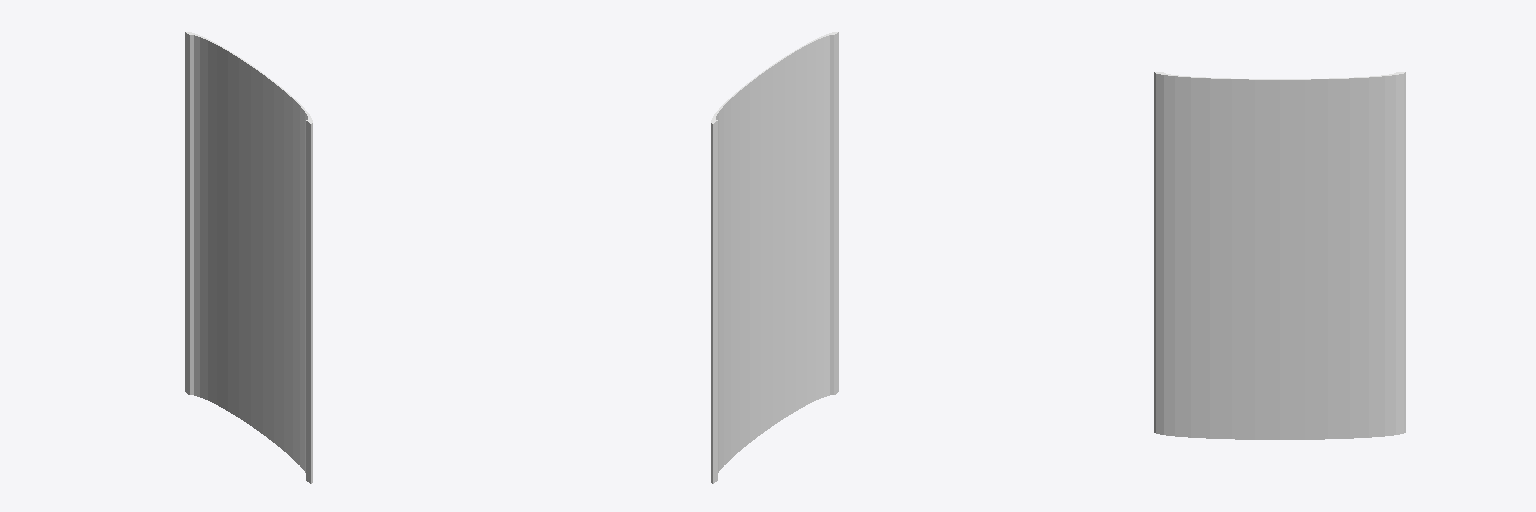
The model's file is gunstore_glass.obj.
3 views of the same model, side by side, from view 1: azimuth 30°, elevation 25°; view 2: azimuth 150°, elevation 25°; view 3: azimuth 270°, elevation 25° (orthographic).
Parts seen in each view (by area): view 1: Cylinder.002_Cylinder.008; view 2: Cylinder.002_Cylinder.008; view 3: Cylinder.002_Cylinder.008.
Boxes of the visible parts, <box> form: Cylinder.002_Cylinder.008: <box>185,32,312,483</box>; Cylinder.002_Cylinder.008: <box>711,32,838,483</box>; Cylinder.002_Cylinder.008: <box>1154,72,1405,439</box>.
Size of the model in its own units: 1.57 by 33.85 by 21.47.